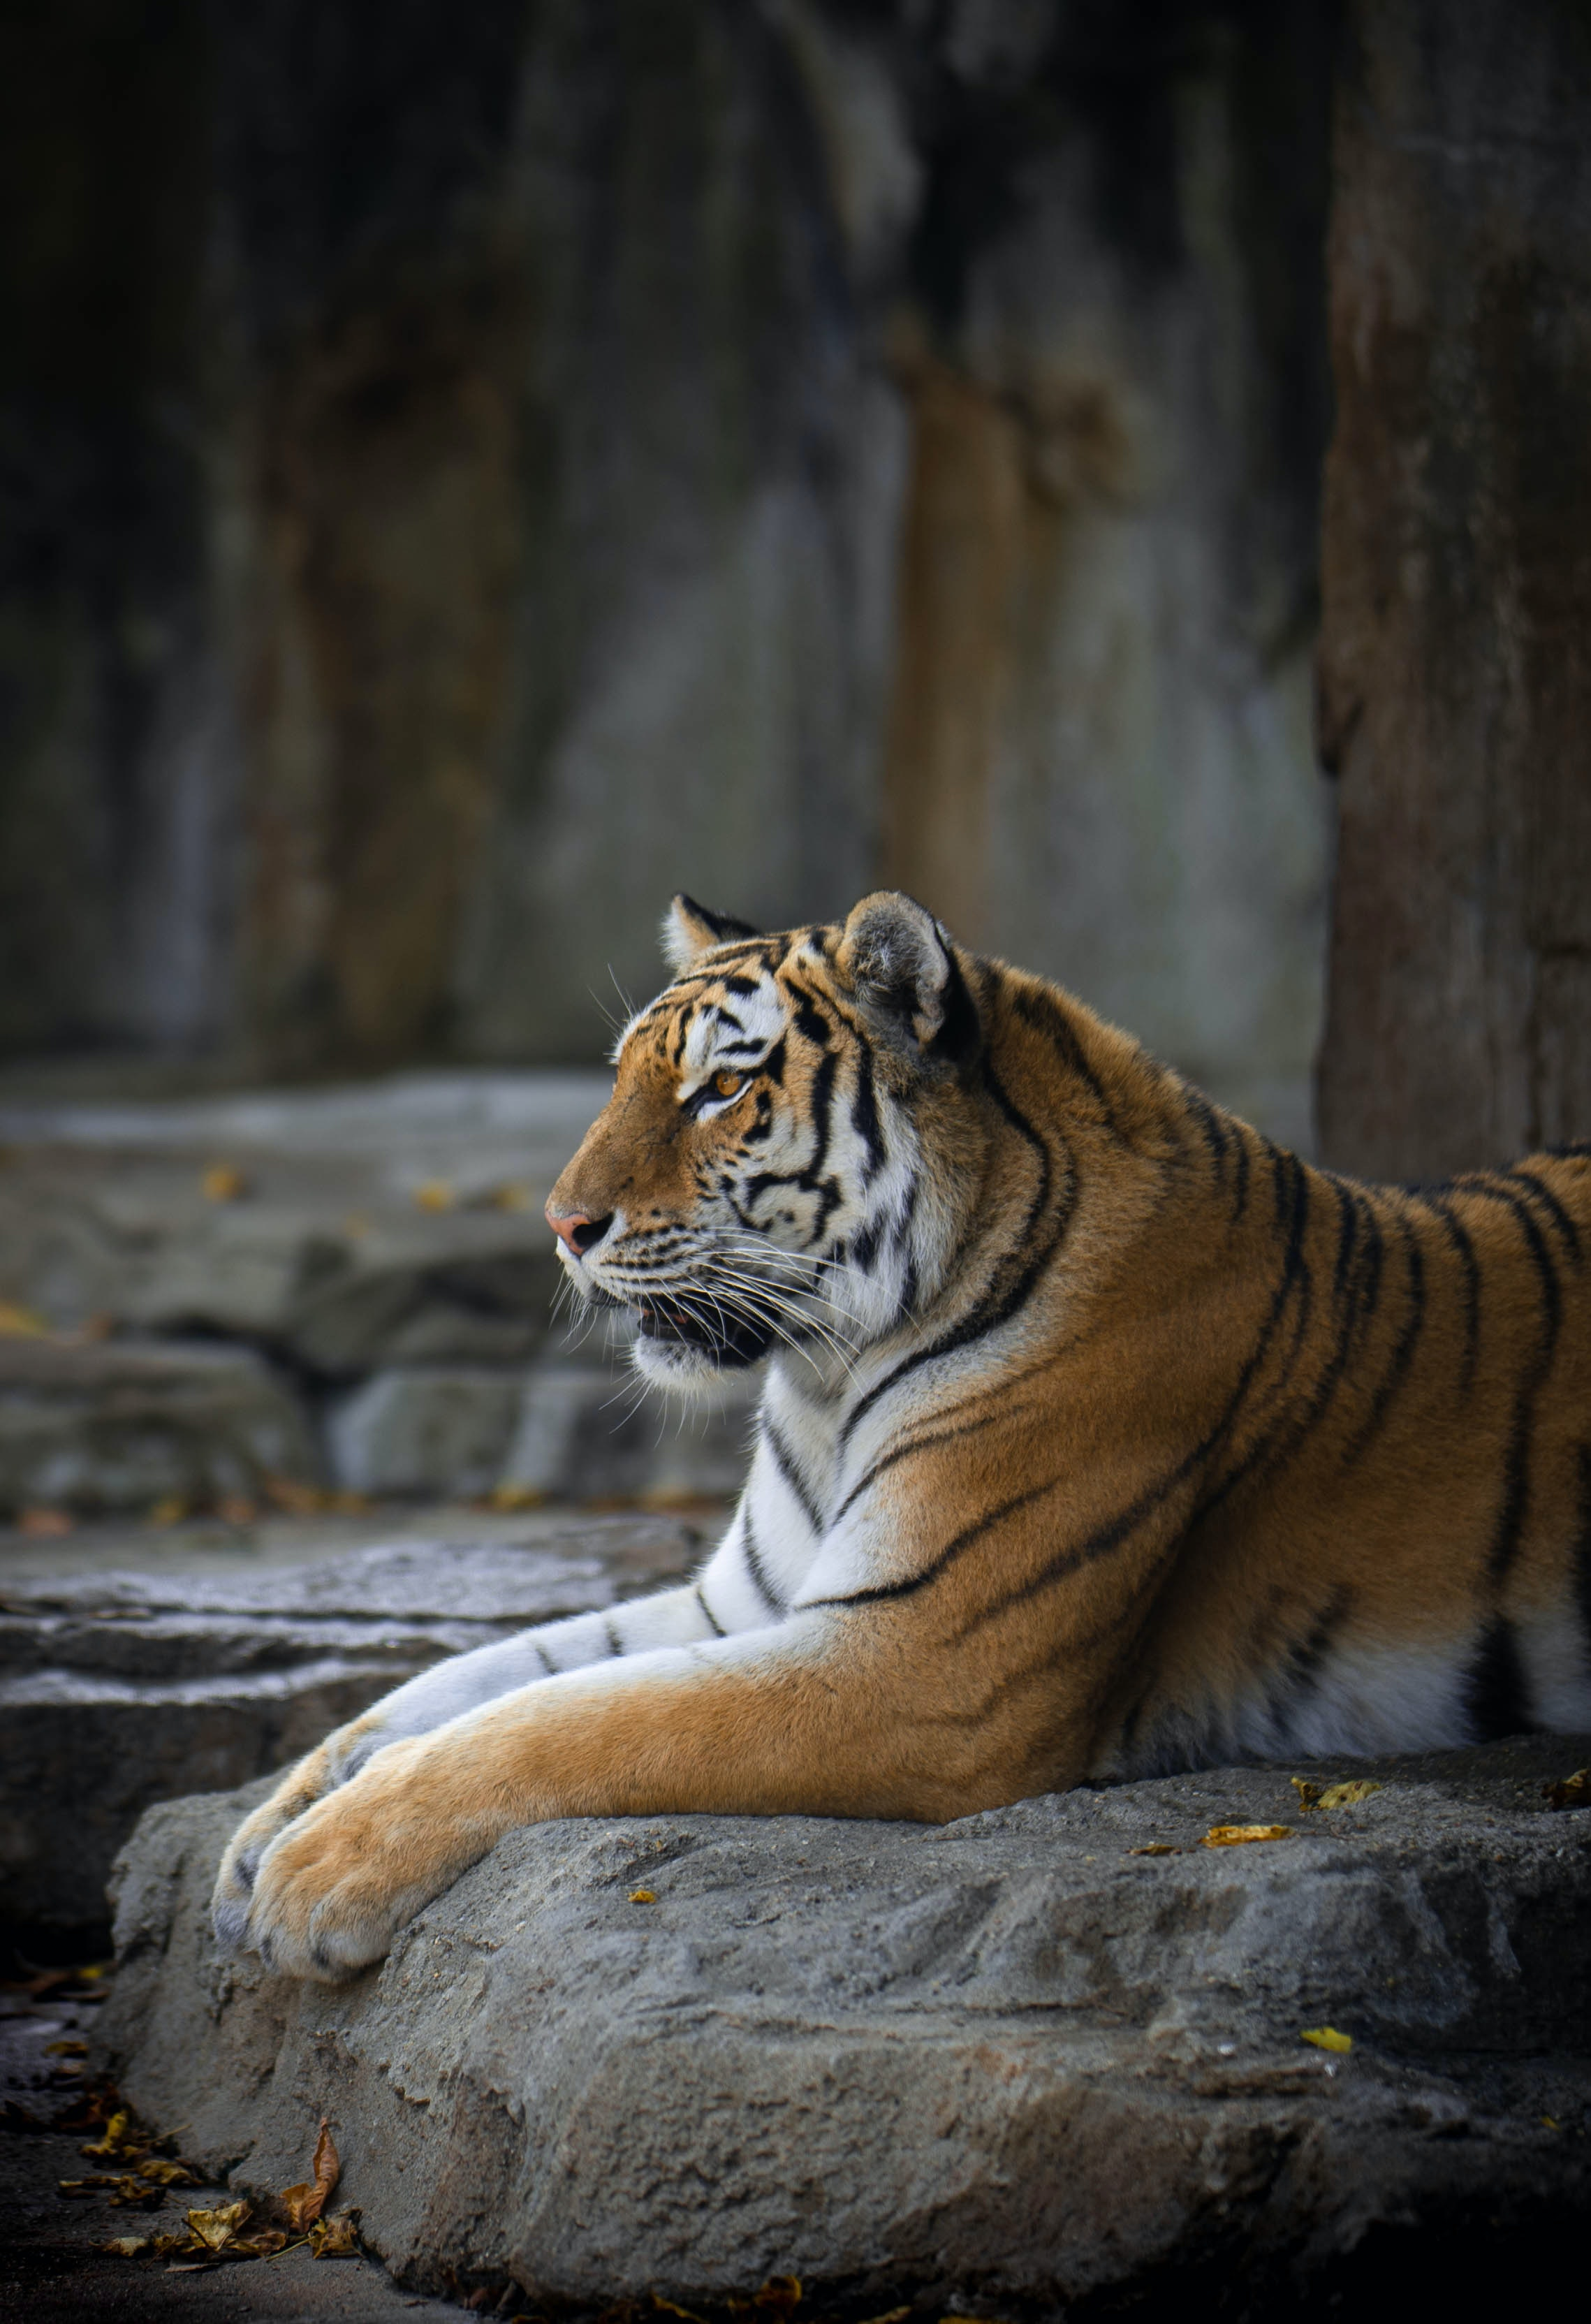tiger: (214, 844, 1591, 1930)
